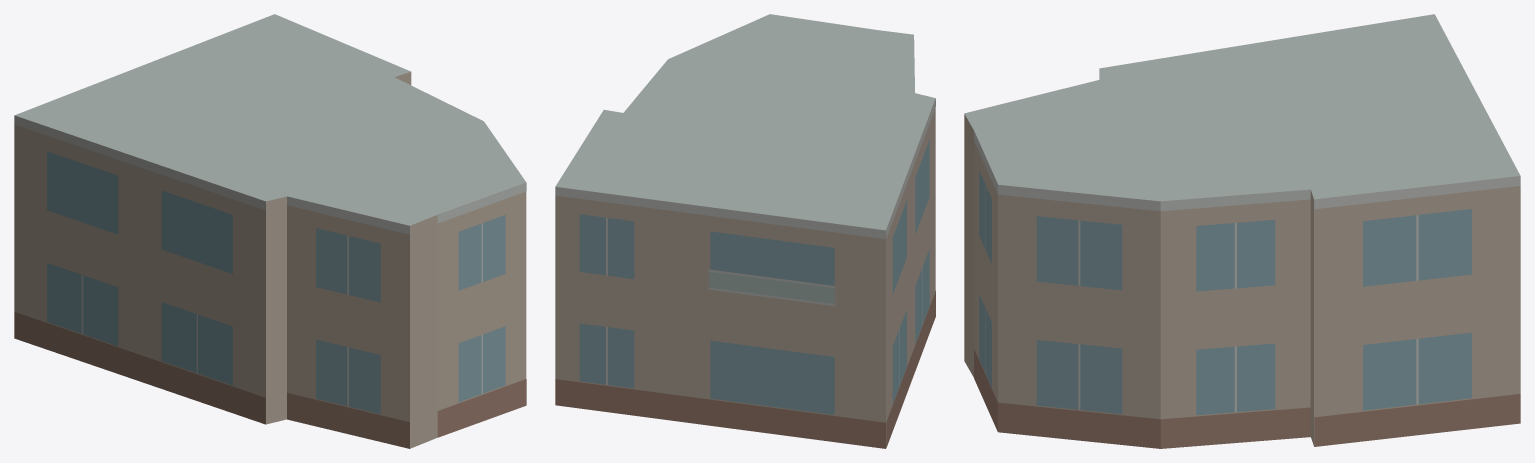
The model's file is survey-upis-32479655.glb.
3 renders of one model, left to right at view 1: azimuth 30°, elevation 25°; view 2: azimuth 150°, elevation 25°; view 3: azimuth 270°, elevation 25°, orthographic. The views are drawn at different scales.
Visible parts, largest first — view 1: survey-upis-32479655.tmp; view 2: survey-upis-32479655.tmp; view 3: survey-upis-32479655.tmp.
Part boxes in pixels (x1,y1,x2,y2): survey-upis-32479655.tmp: (14, 14, 526, 448); survey-upis-32479655.tmp: (555, 14, 935, 448); survey-upis-32479655.tmp: (964, 14, 1520, 448).
Bounding box in the file's own units: 9.92 × 6.1 × 12.44.
